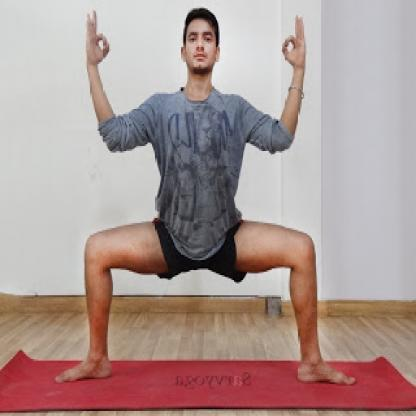godness: (49, 0, 359, 391)
